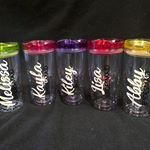cups: (84, 35, 122, 115), (20, 33, 56, 110), (122, 35, 150, 124), (54, 36, 86, 112), (1, 37, 25, 112)
